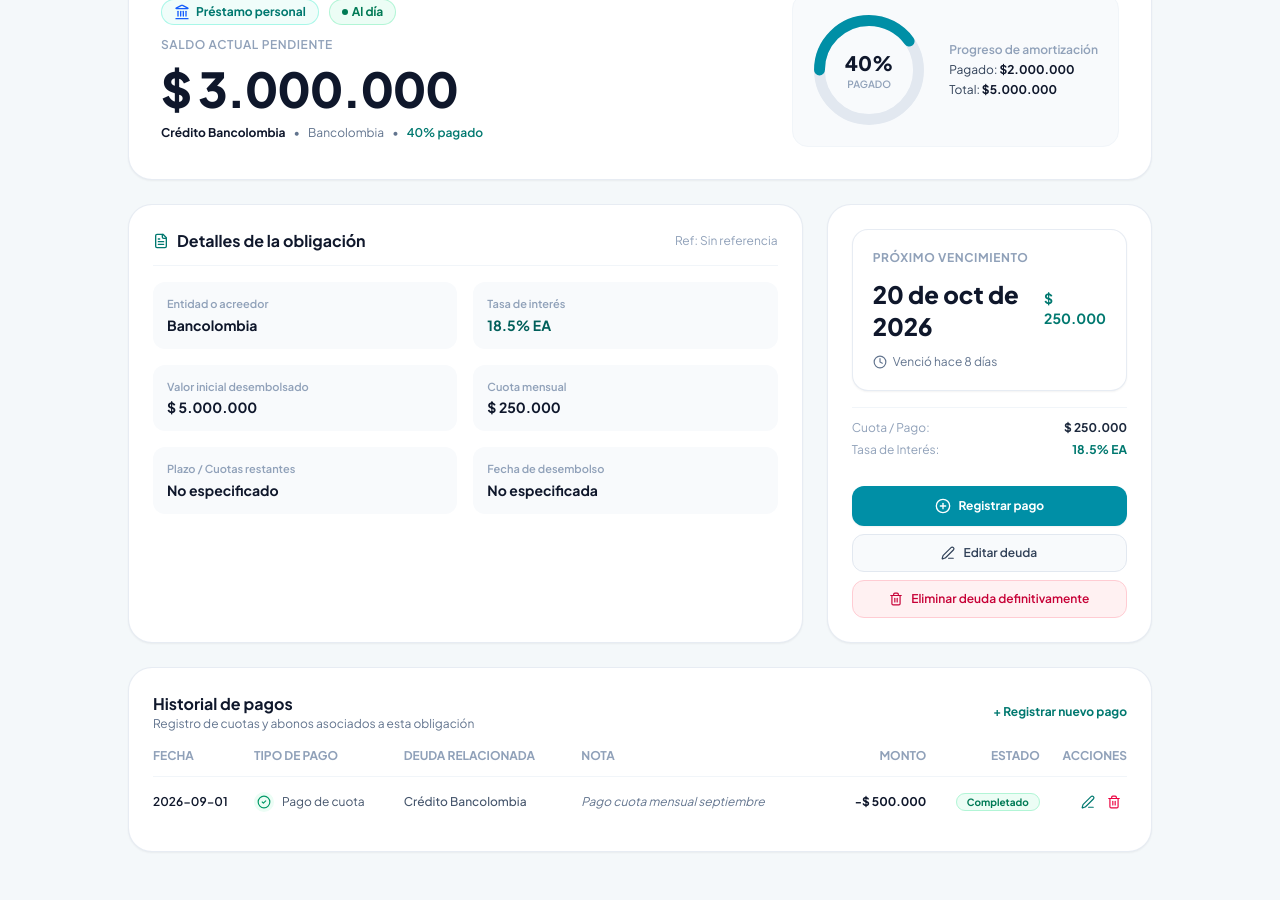
Test: EP-10 — Gestión de pagos y abonos (HU-042, HU-043, HU-044) › HU-044 — Eliminar un pago › CA-03: Si la eliminación falla en backend, muestra error en el diálogo y conserva el pago
This screenshot has width=1280, height=900.
(page scrolled)
Click the button named "Eliminar pago del 2026-09-01" at {"x": 1114, "y": 802}, box [1101,789,1127,815]
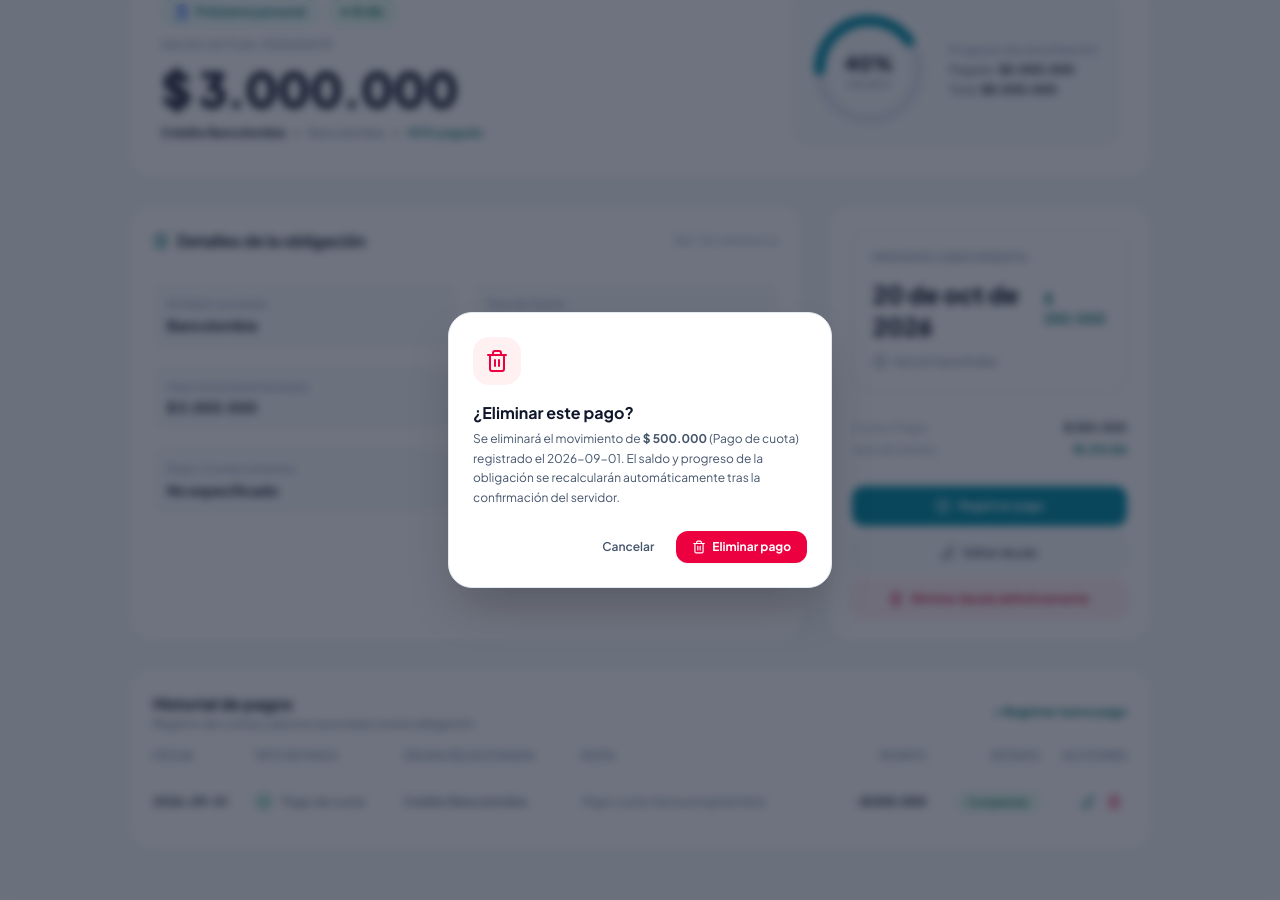
Click the button "Eliminar pago" at {"x": 742, "y": 547}, box [676,531,807,563]
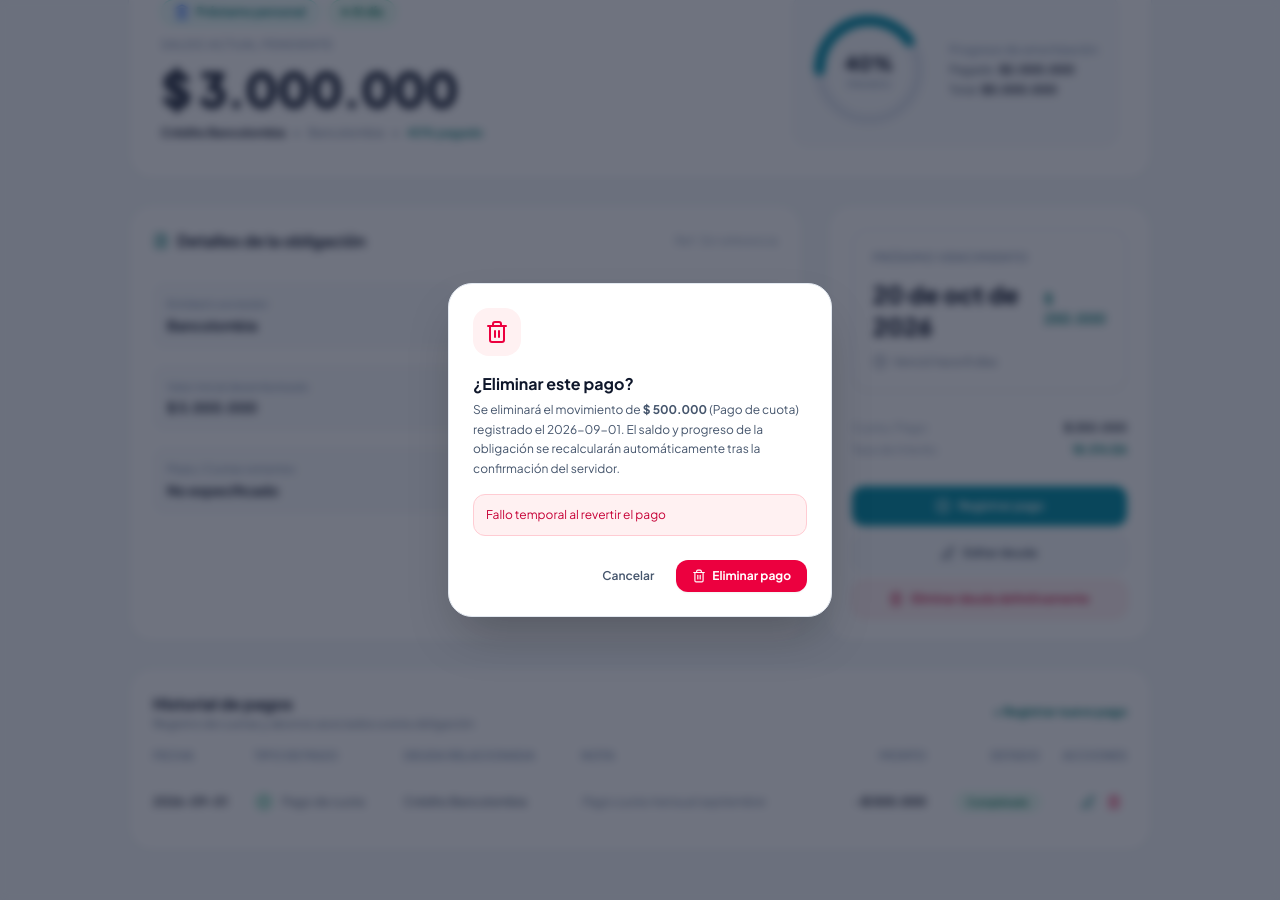
Result: the text "Fallo temporal al revertir el pago" is shown at [473,494,807,536]
